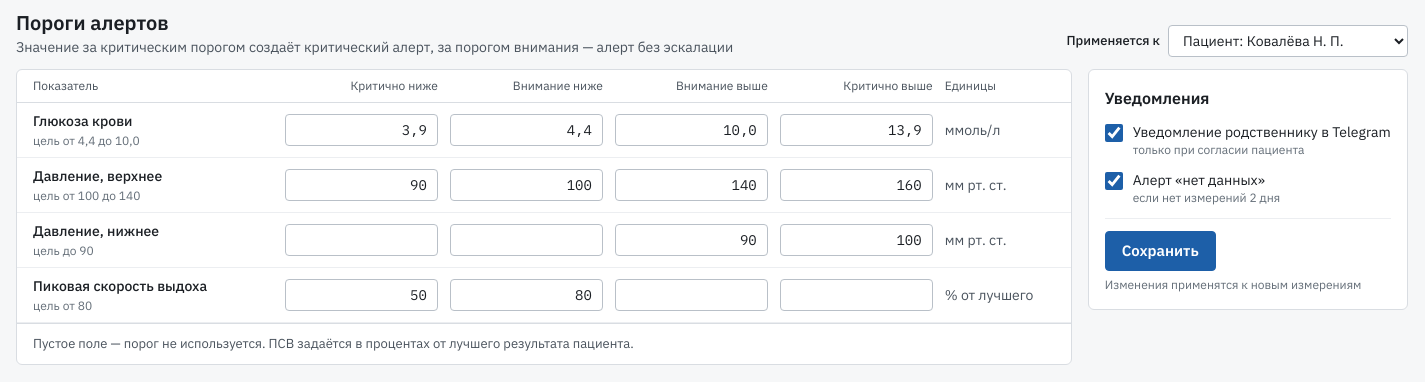
Test: Thresholds › блокирует сохранение, если пороги не возрастают
Replace the text in the 1st field named "Глюкоза крови: критично ниже" with "15". click: (361, 130)
box: [285, 114, 438, 146]
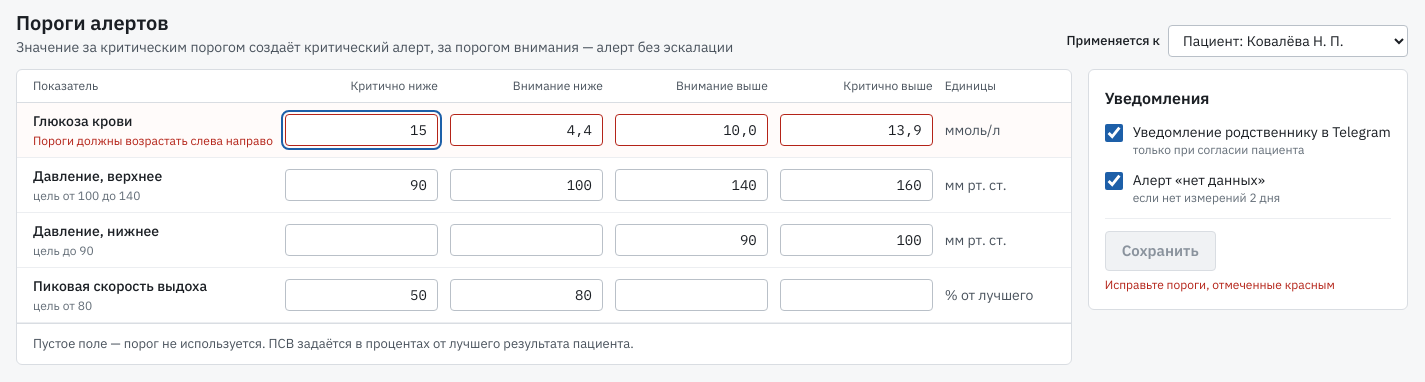
Now the text "Пороги должны возрастать слева направо" is shown, box [33, 133, 273, 149]
Now the button "Сохранить" is disabled, box [1105, 231, 1216, 271]
